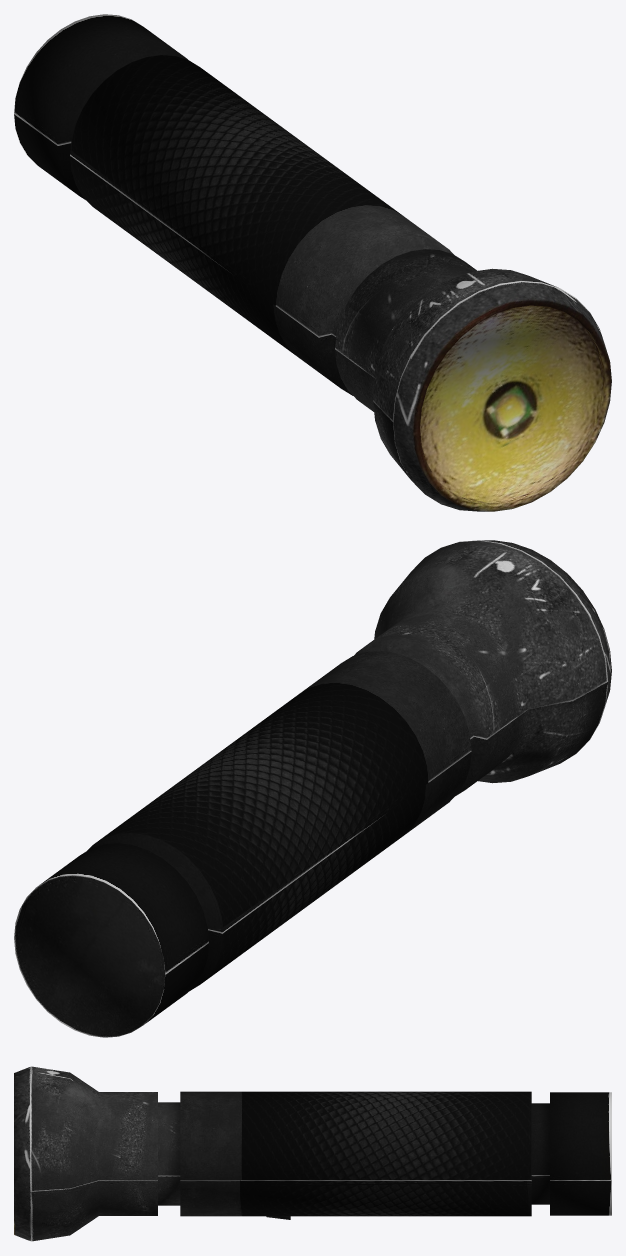
Rendered from flashlight.gltf.
3 renders of one model, top to bottom at view 1: azimuth 30°, elevation 25°; view 2: azimuth 150°, elevation 25°; view 3: azimuth 270°, elevation 25°, orthographic. The views are drawn at different scales.
Parts seen in each view (by area): view 1: Cilindro; view 2: Cilindro; view 3: Cilindro.
Part boxes in pixels (x1,y1,x2,y2): Cilindro: [14, 14, 611, 511]; Cilindro: [14, 540, 611, 1037]; Cilindro: [14, 1066, 611, 1241].
Bounding box in the file's own units: 1.72 × 1.72 × 5.88.
1 material, 1 textured.
